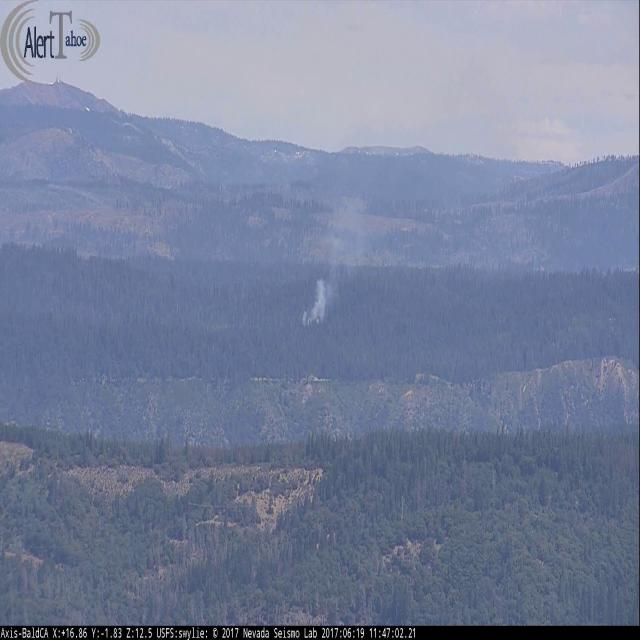smoke: (300, 167, 384, 328)
